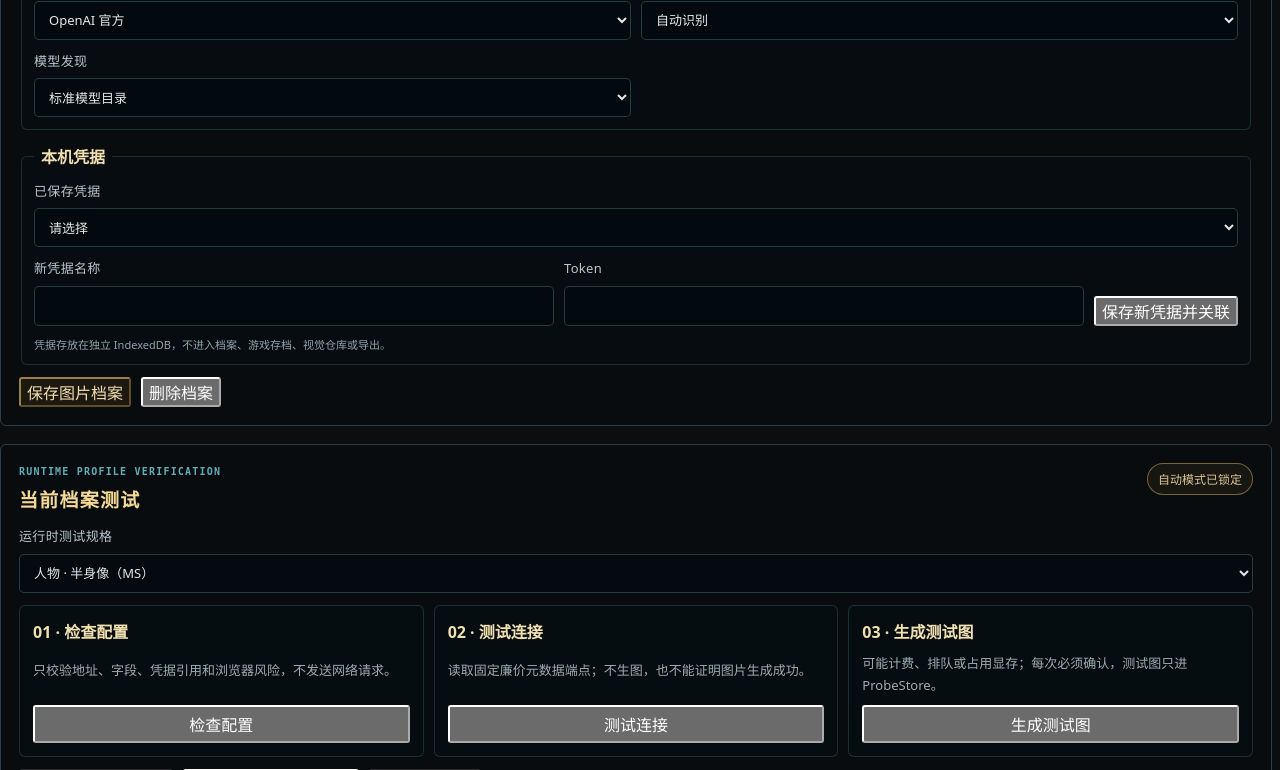
Test: ImageGenerationSettingsPanel › deletes profile-bound presets and safely detaches automatic modes without deleting generated assets
(page scrolled)
Click the button "删除档案": (181, 392) [141,377,221,407]
(page scrolled)
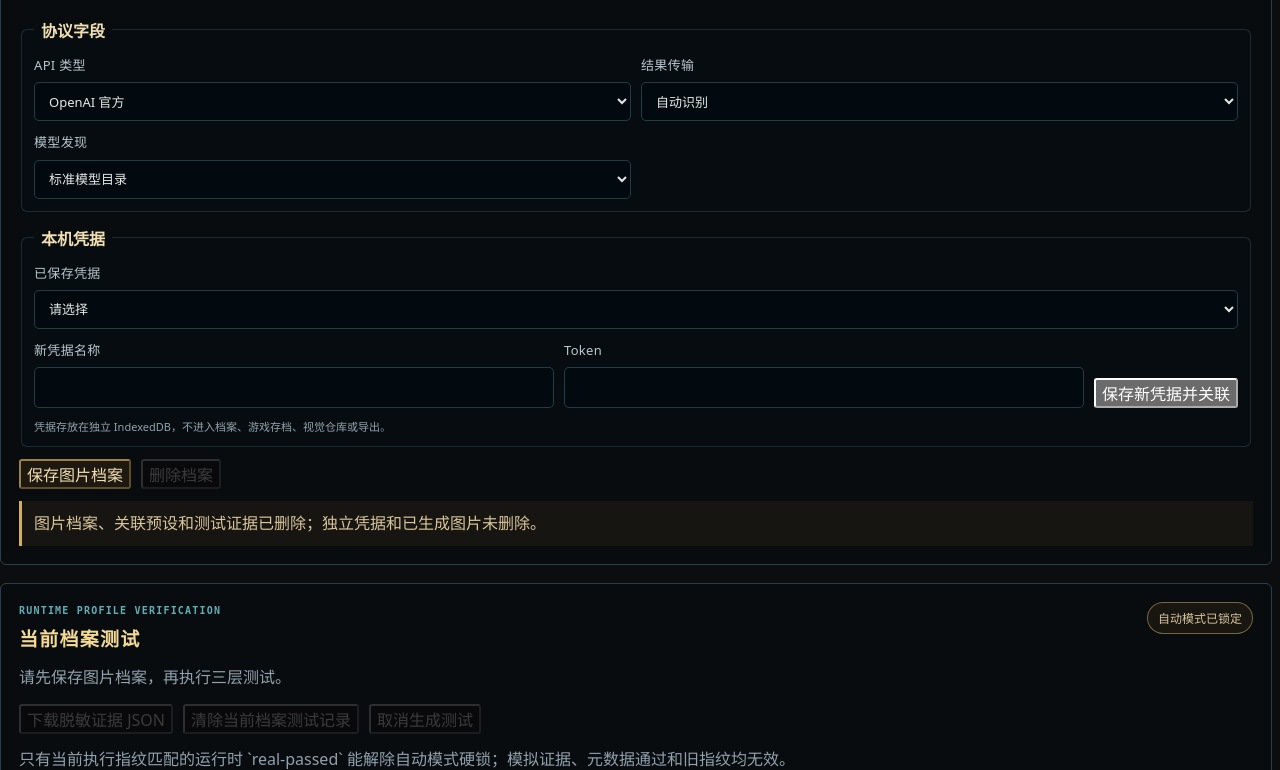
Expected: the text "图片档案、关联预设和测试证据已删除；独立凭据和已生成图片未删除。" is shown, [19,501,1253,546]
